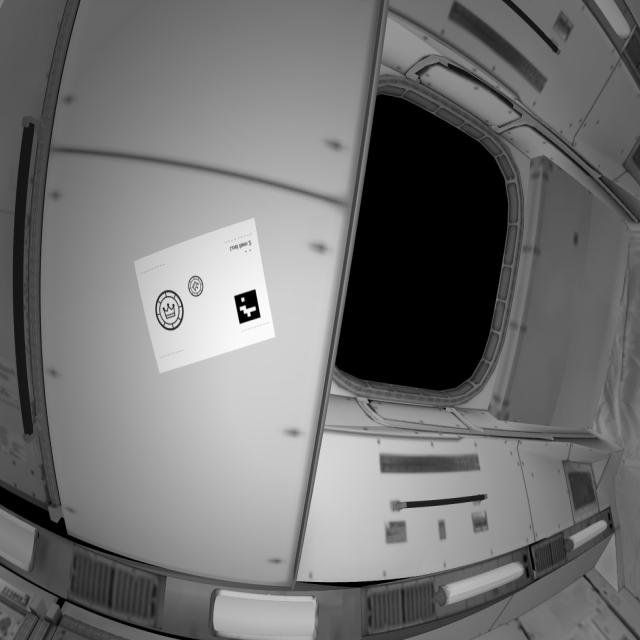coin: (150, 288, 190, 336), (187, 274, 207, 302)
